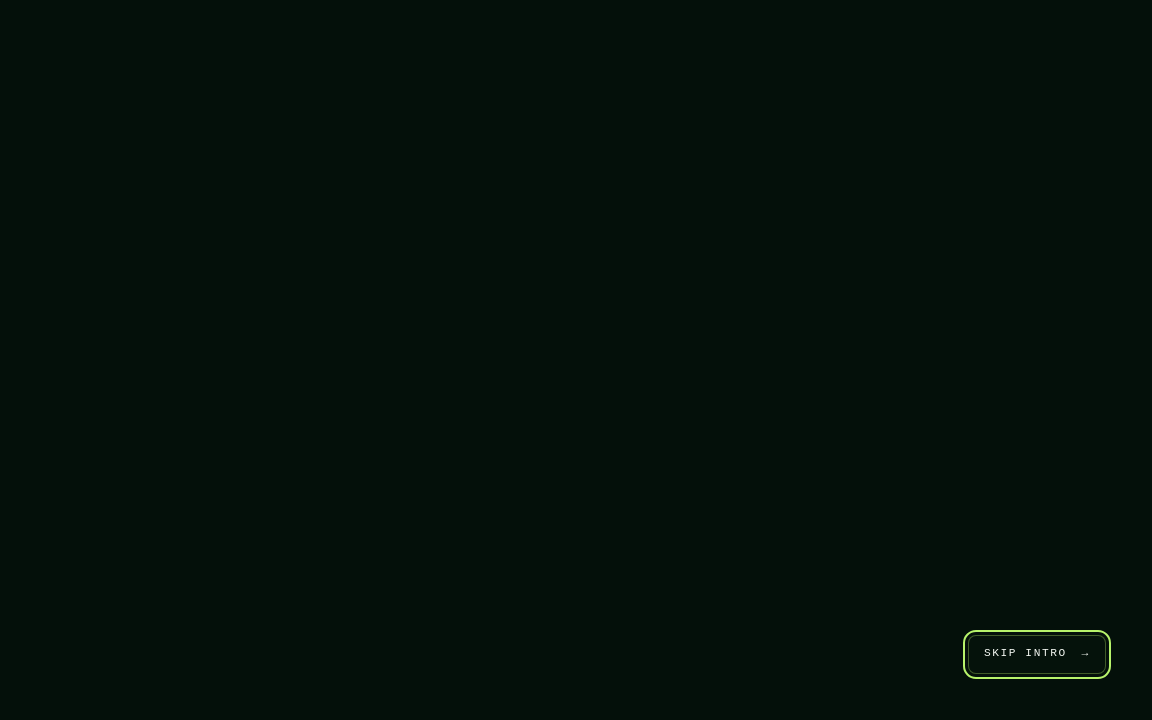
Scenario: cinematic intro › is skippable and remembers the choice for the session
Click the button "Skip intro →" at (1037,654), box x1=968 y1=635 x2=1106 y2=674
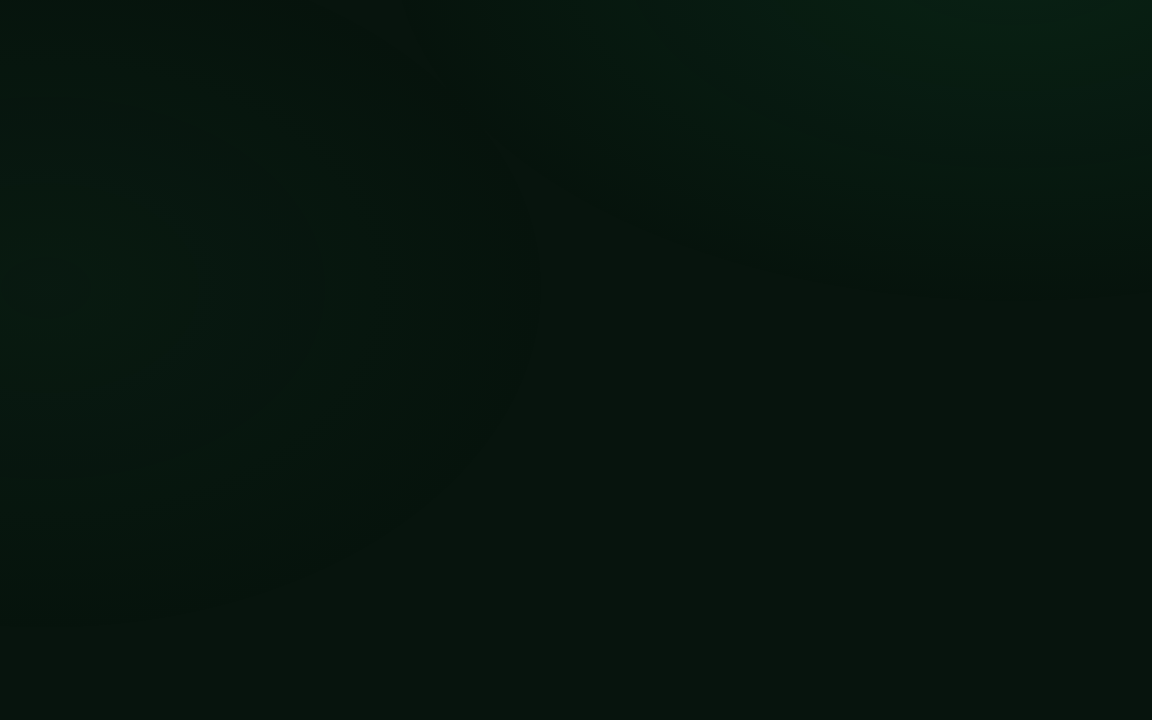
Now the dialog is gone
